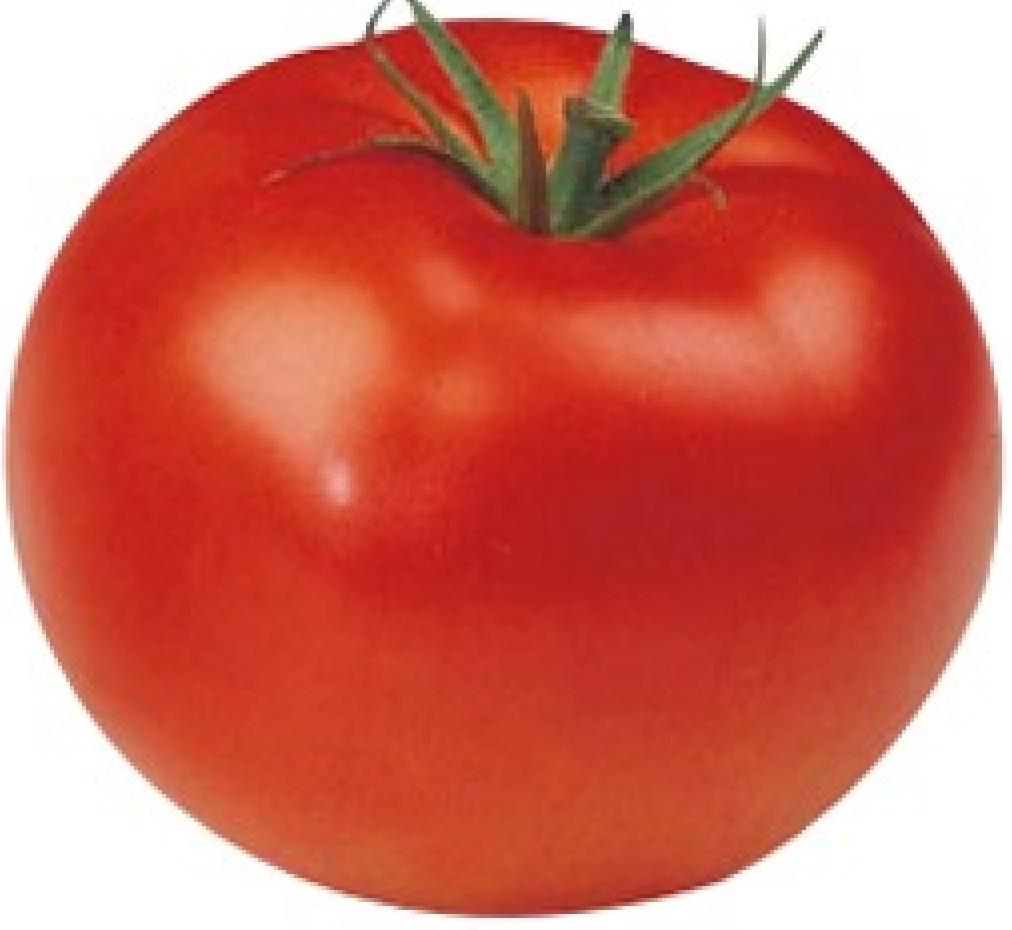tomato: (27, 23, 995, 909)
